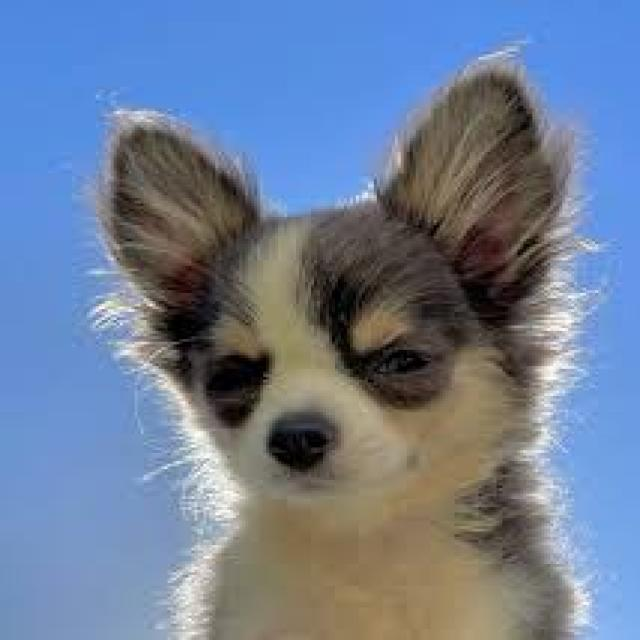dog: (89, 44, 614, 640)
